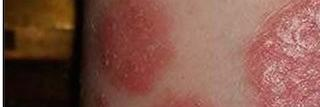plaque psoriasis: (235, 0, 320, 107), (97, 0, 180, 98), (139, 93, 240, 107), (90, 97, 108, 107)
